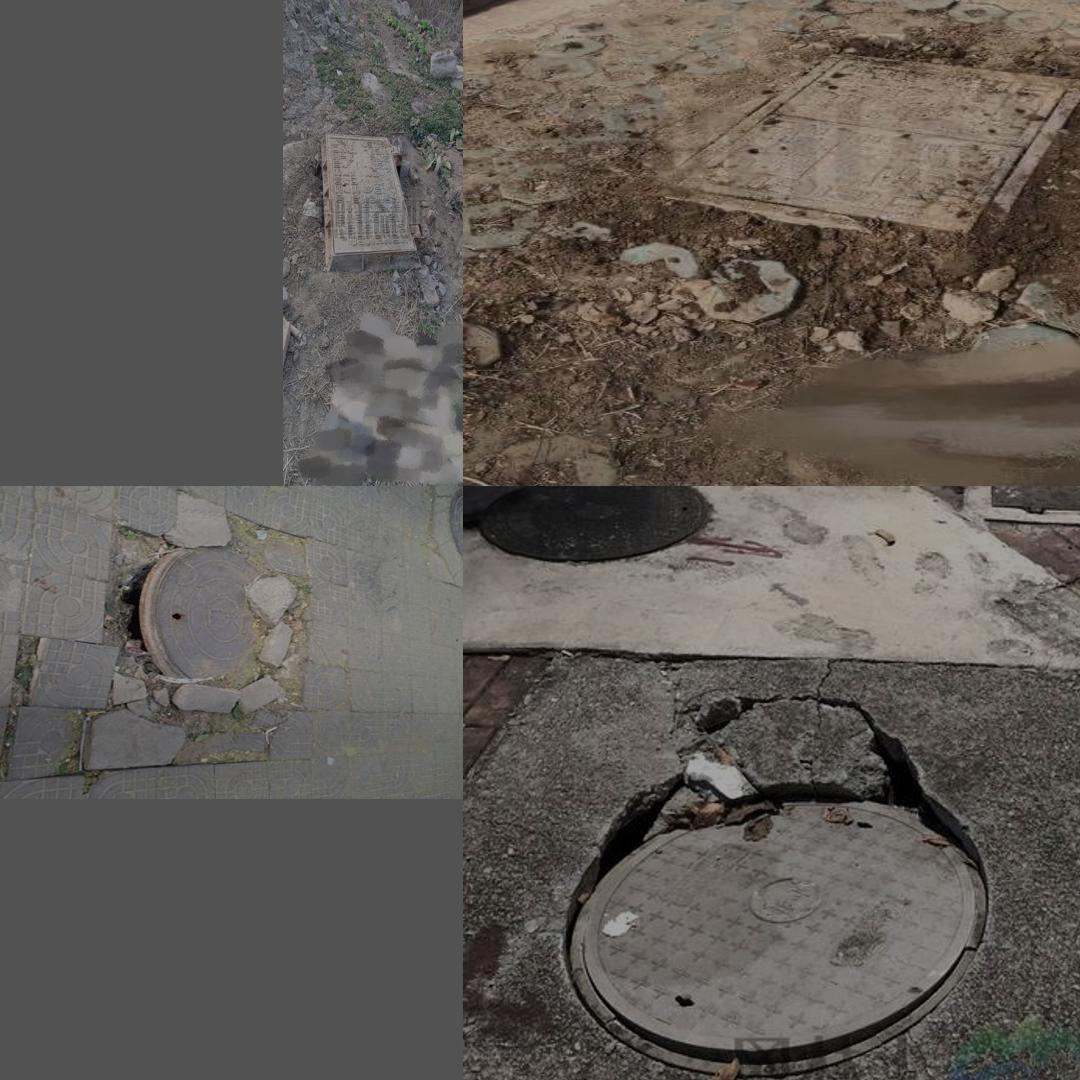circle: (467, 633, 1080, 1080), (616, 48, 1080, 267), (80, 526, 314, 773), (317, 129, 425, 275)
